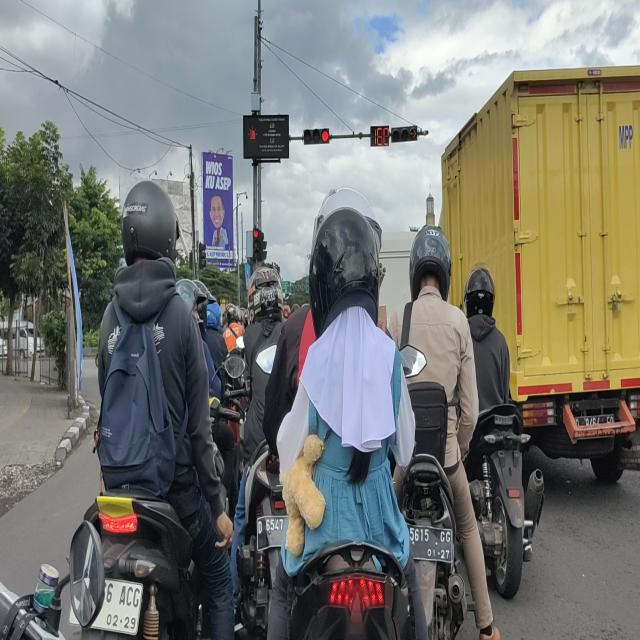helmet: (311, 218, 378, 310), (124, 183, 174, 261), (412, 223, 450, 300), (248, 272, 284, 320), (464, 270, 498, 316), (177, 282, 201, 314), (197, 278, 211, 327)
